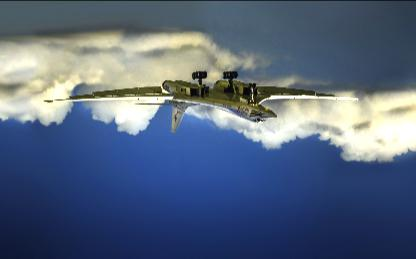Su34: (43, 70, 359, 134)
